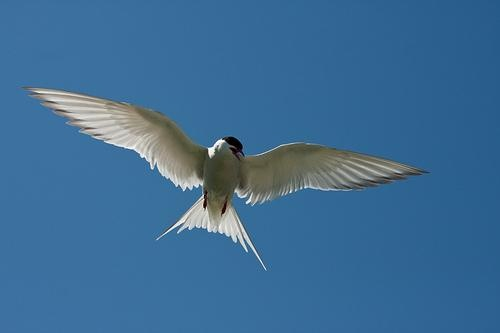bird: (18, 81, 432, 270)
